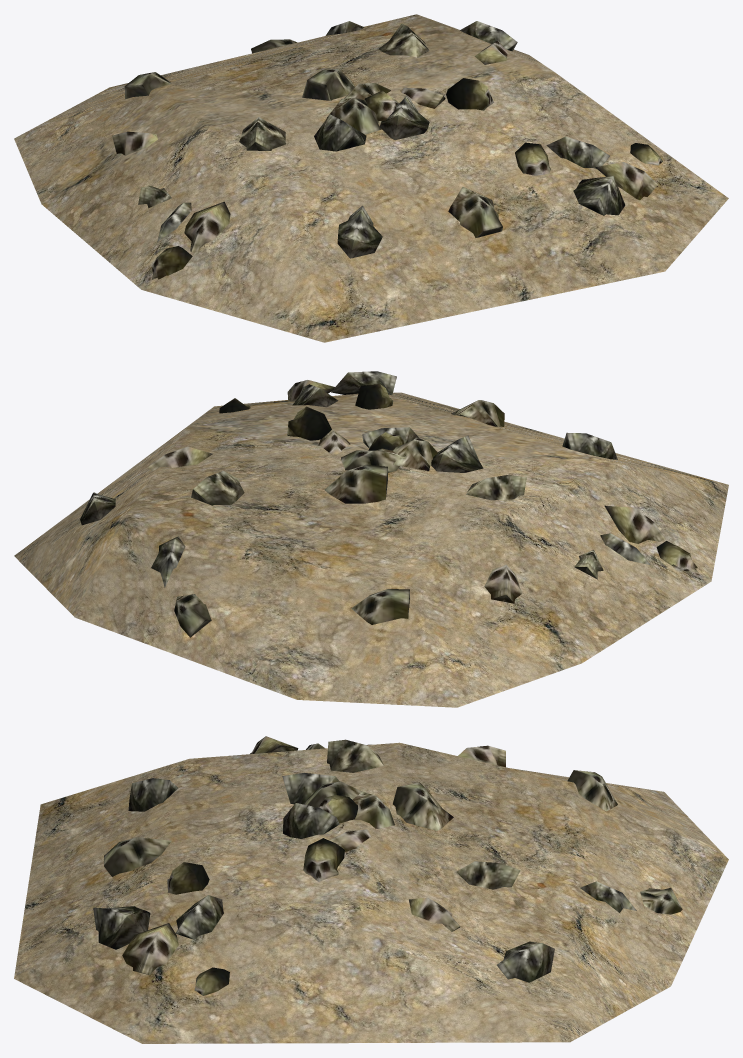
File: pir_m_prp_bon_skullmound.fbx
The picture shows the model from 3 angles, top to bottom: view 1: azimuth 30°, elevation 25°; view 2: azimuth 150°, elevation 25°; view 3: azimuth 270°, elevation 25°; orthographic projection. The views are drawn at different scales.
Visible parts, largest first — view 1: dirtPile, skull_c2, skull_d8, skull_d4, skull_a6, skull_d3, skull_d1, skull_c1, skull_a5, skull_d, polySurface12, skull_c3 (+10 smaller); view 2: dirtPile, skull_c1, skull_c4, skull_a6, skull_b3, skull_d1, skull_b2, skull_c7, polySurface12, skull_d4, skull_c3, skull_a4 (+11 smaller); view 3: dirtPile, skull_a5, skull_d4, skull_c1, skull_d7, skull_c2, skull_d3, skull_b2, skull_d, polySurface12, skull_b3, skull_d8 (+12 smaller).
Part boxes in pixels (x1,y1,x2,y2): dirtPile: [14, 14, 728, 342]; skull_c2: [448, 187, 502, 237]; skull_d8: [337, 205, 382, 258]; skull_d4: [573, 175, 625, 215]; skull_a6: [184, 201, 230, 252]; skull_d3: [380, 95, 429, 140]; skull_d1: [314, 114, 366, 151]; skull_c1: [302, 68, 354, 100]; skull_a5: [595, 162, 658, 200]; skull_d: [546, 136, 609, 169]; polySurface12: [446, 78, 493, 110]; skull_c3: [327, 98, 381, 134]; dirtPile: [14, 392, 728, 707]; skull_c1: [324, 464, 387, 503]; skull_c4: [351, 589, 409, 624]; skull_a6: [604, 505, 665, 543]; skull_b3: [191, 471, 244, 505]; skull_d1: [431, 435, 483, 472]; skull_b2: [466, 474, 526, 500]; skull_c7: [174, 594, 211, 637]; polySurface12: [287, 406, 331, 440]; skull_d4: [331, 371, 396, 394]; skull_c3: [392, 437, 437, 470]; skull_a4: [484, 564, 522, 603]; dirtPile: [14, 742, 728, 1043]; skull_a5: [122, 923, 178, 975]; skull_d4: [93, 906, 150, 949]; skull_c1: [393, 782, 453, 830]; skull_d7: [496, 941, 554, 982]; skull_c2: [104, 837, 171, 876]; skull_d3: [283, 803, 339, 838]; skull_b2: [327, 739, 383, 772]; skull_d: [175, 895, 223, 939]; polySurface12: [303, 838, 344, 881]; skull_b3: [456, 861, 520, 889]; skull_d8: [128, 778, 177, 811].
Size of the model in its own units: 669 by 125 by 713.
Materials: 2 (2 with a texture image).
